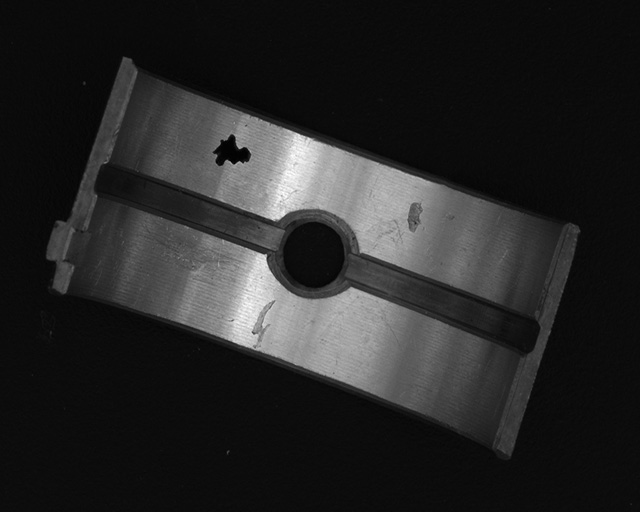blot: (213, 133, 252, 167)
bruise: (407, 201, 424, 233)
gap: (345, 255, 537, 352), (97, 164, 280, 248)
hole: (272, 213, 349, 292)
nick: (251, 299, 277, 350)
scratch: (138, 221, 245, 276)
